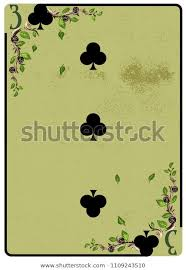three of clubs: (4, 5, 183, 256)
